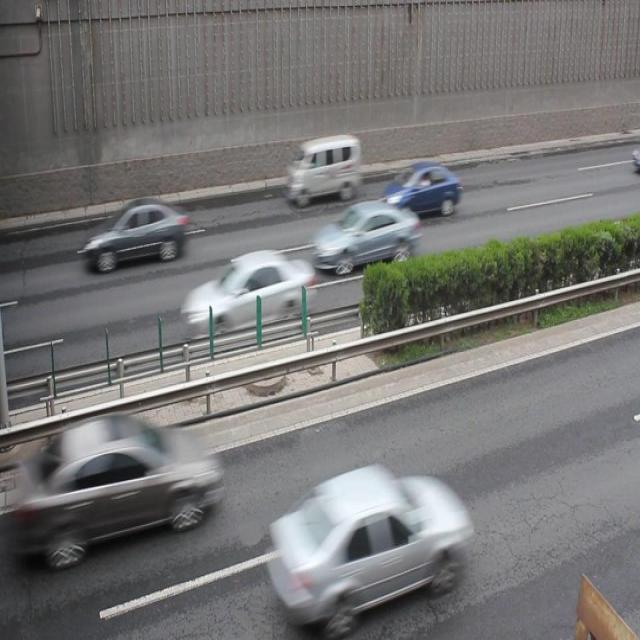car: (267, 467, 466, 640), (35, 413, 214, 558), (183, 248, 315, 338), (85, 199, 185, 273), (313, 203, 418, 271), (381, 161, 458, 217)
truck: (287, 132, 357, 206)
